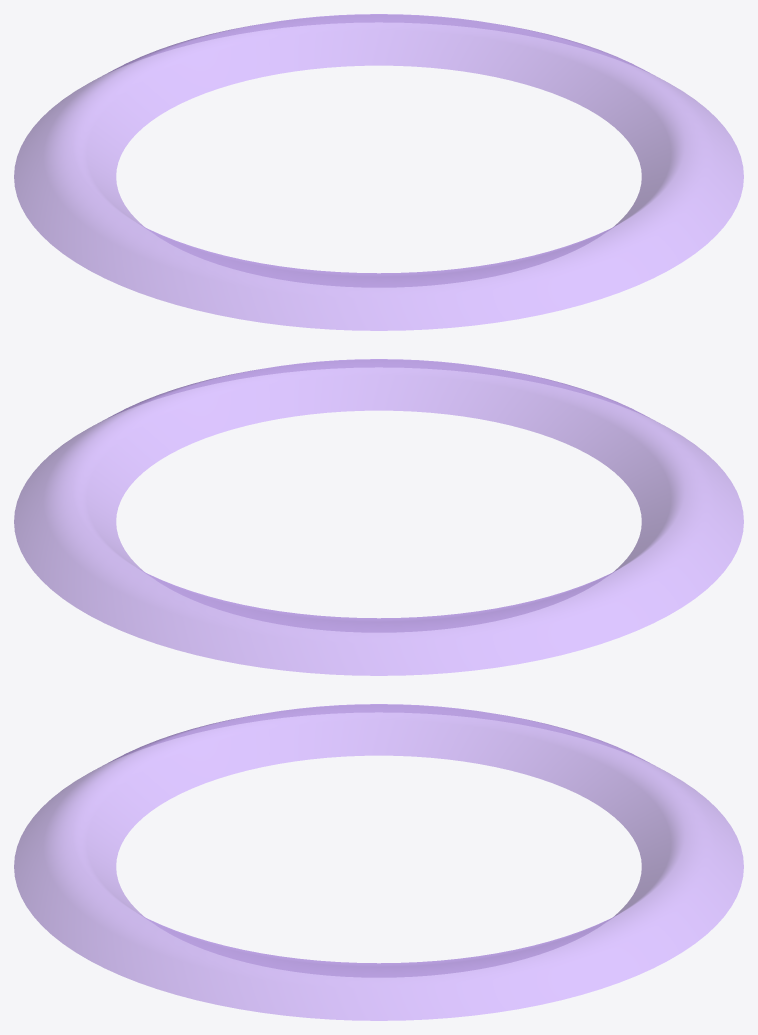
Rendered from SM_VFX_ShockRing.fbx.
The picture shows the model from 3 angles, top to bottom: view 1: azimuth 30°, elevation 25°; view 2: azimuth 150°, elevation 25°; view 3: azimuth 270°, elevation 25°; orthographic projection.
Visible parts, largest first — view 1: SM_VFX_ShockRing; view 2: SM_VFX_ShockRing; view 3: SM_VFX_ShockRing.
Part boxes in pixels (left/top/right/bottom): SM_VFX_ShockRing: left=14, top=14, right=743, bottom=330; SM_VFX_ShockRing: left=14, top=359, right=743, bottom=675; SM_VFX_ShockRing: left=14, top=704, right=743, bottom=1020.
Size of the model in its own units: 1000 by 50 by 1000.
